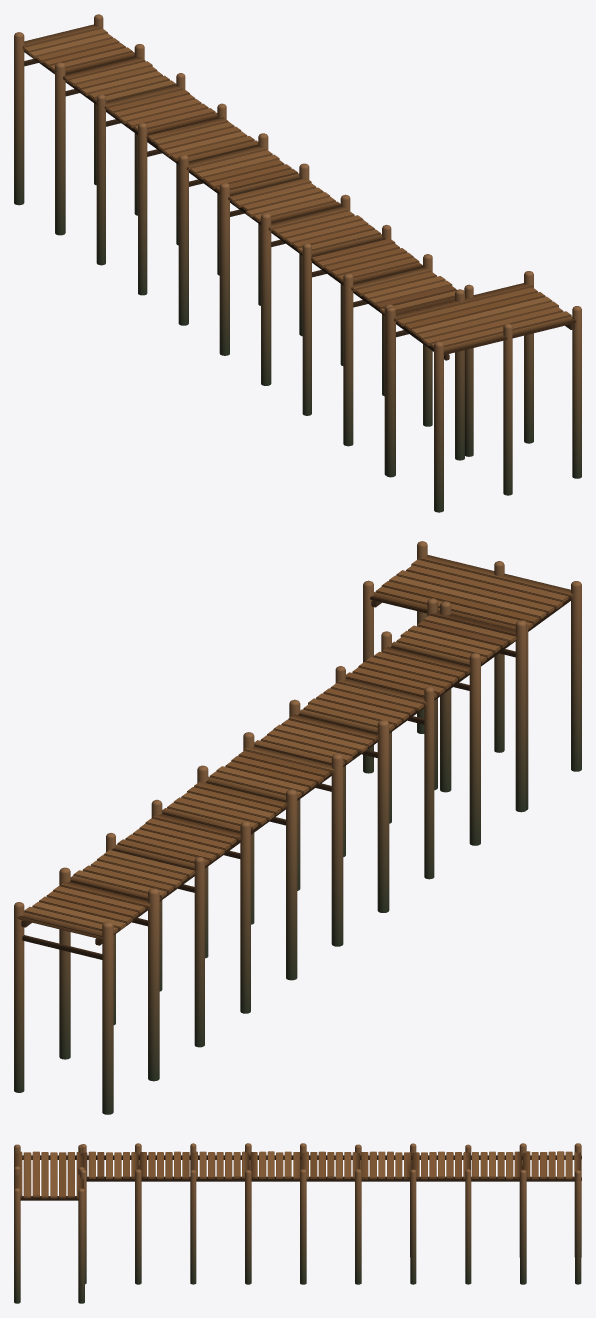
File: dock.glb
3 renders of one model, top to bottom at view 1: azimuth 30°, elevation 25°; view 2: azimuth 150°, elevation 25°; view 3: azimuth 270°, elevation 25°, orthographic. The views are drawn at different scales.
Visible parts, largest first — view 1: dock; view 2: dock; view 3: dock.
Part boxes in pixels (x1,y1,x2,y2): dock: (14,14,581,512); dock: (14,541,581,1114); dock: (14,1143,581,1303).
Bounding box in the file's own units: 4.51 × 4.99 × 22.61.
